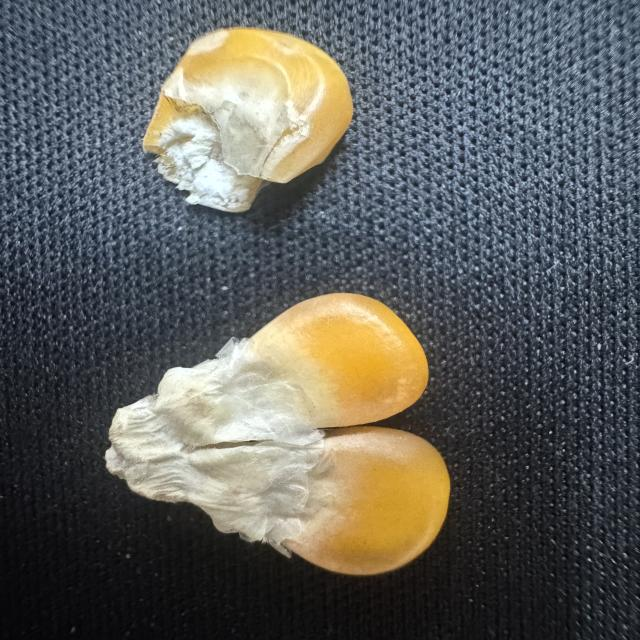Bad-Seed: (99, 287, 461, 583), (135, 21, 362, 217)
